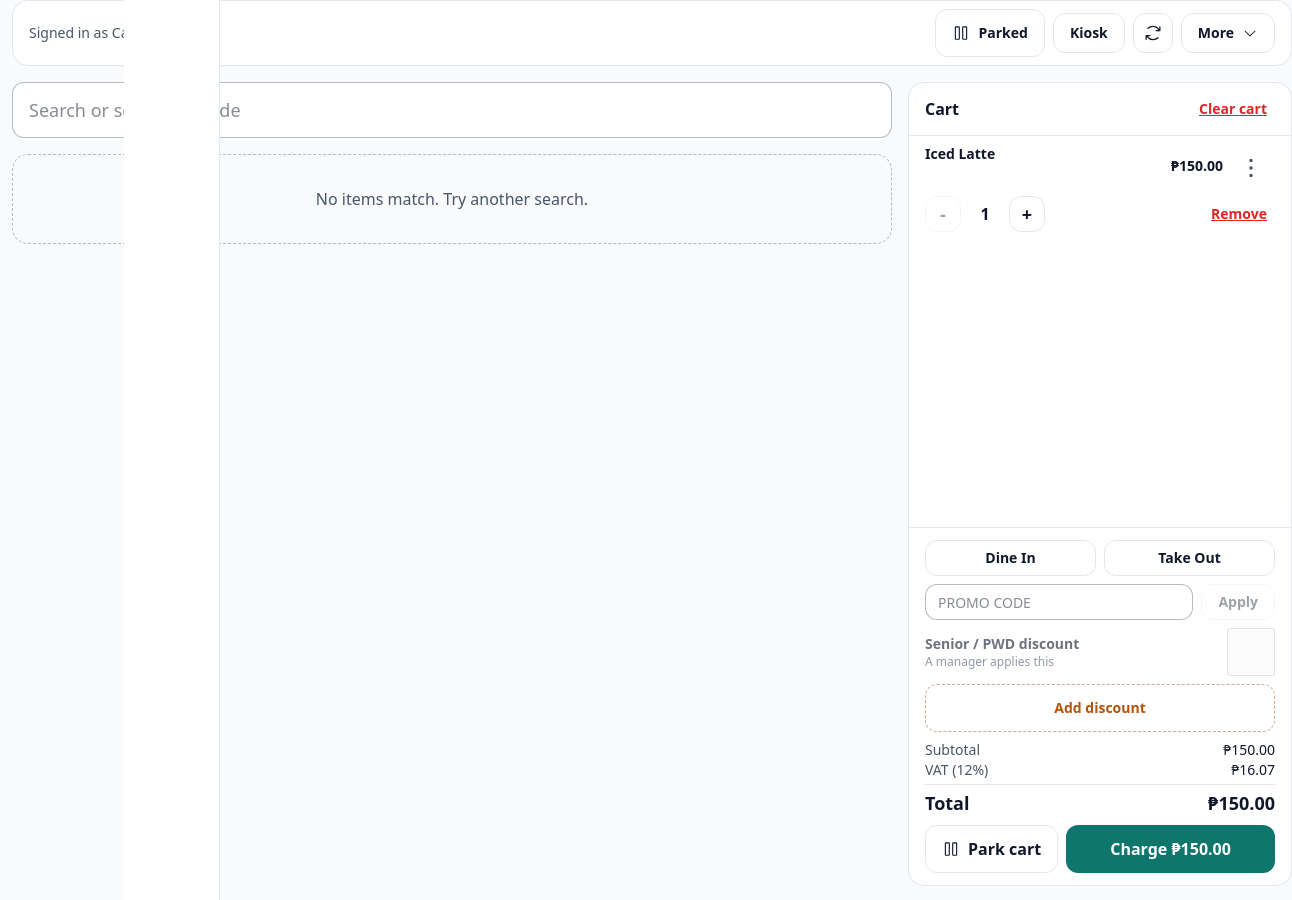
Test case: role rules › shows discount and override to a Cashier
Click the button named "Actions for Iced Latte": [1251, 168] box [1227,144,1275,192]
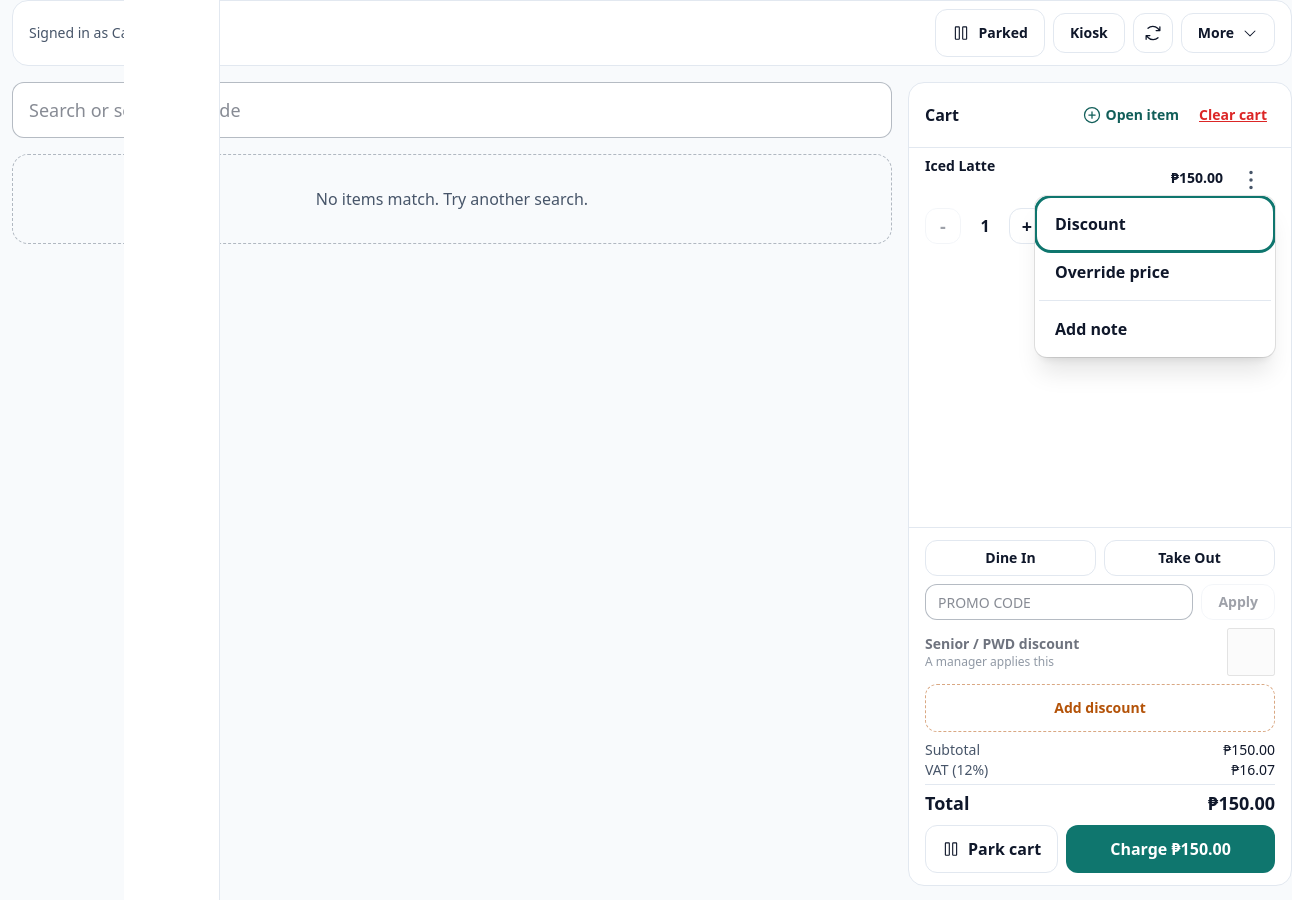
Expected: the button "Add discount" is shown, [925,684,1275,732]
Result: the menu item "Discount" is enabled at [1039,200,1271,248]
Result: the menu item "Override price" is enabled at [1039,248,1271,296]
